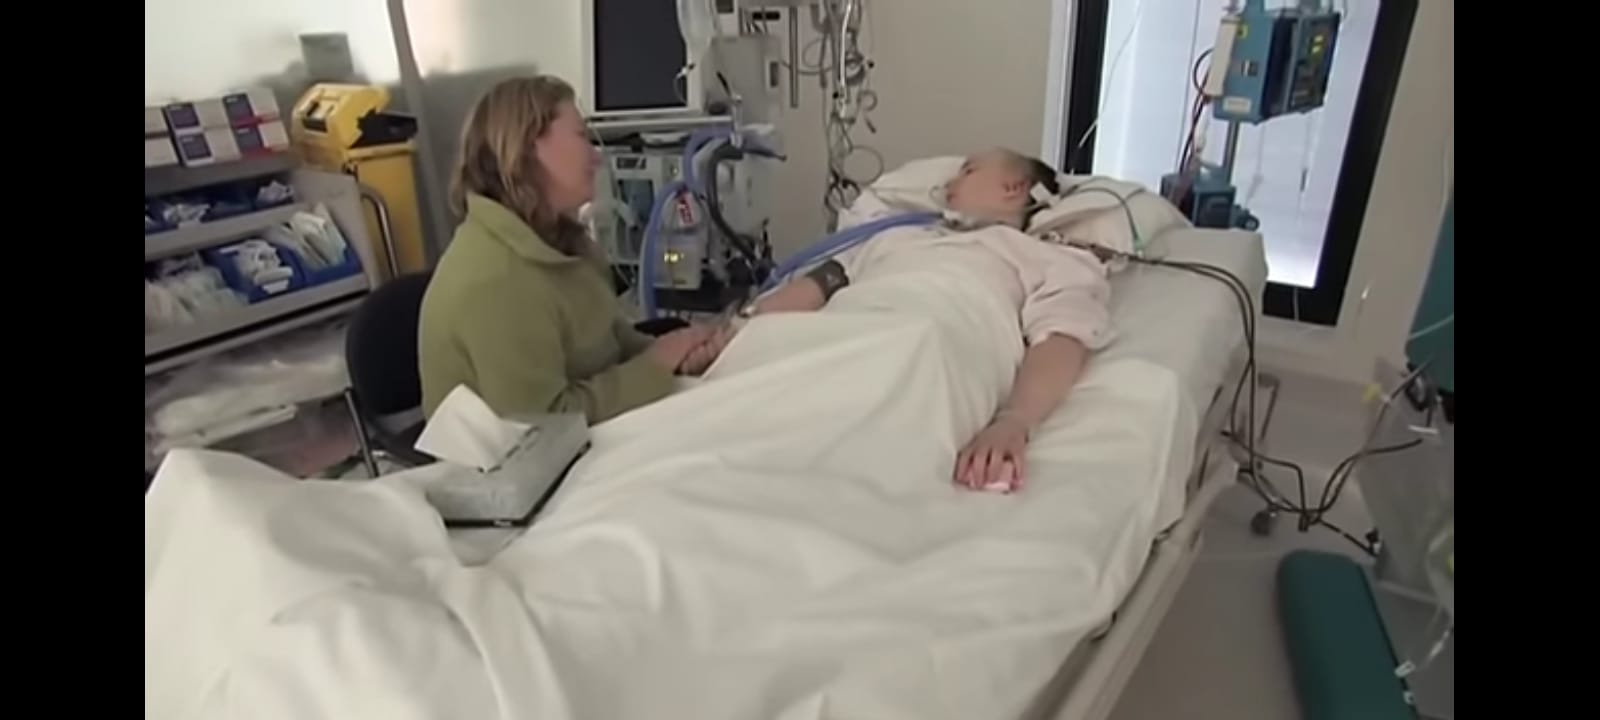patient: (741, 139, 1128, 515)
person: (401, 69, 725, 439)
